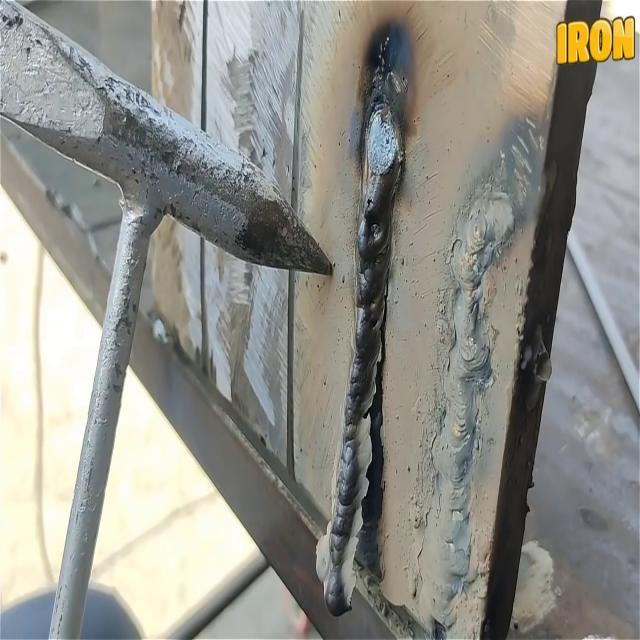Bad Welding: (314, 34, 408, 618), (422, 182, 512, 622)
Crack: (350, 263, 384, 601)
